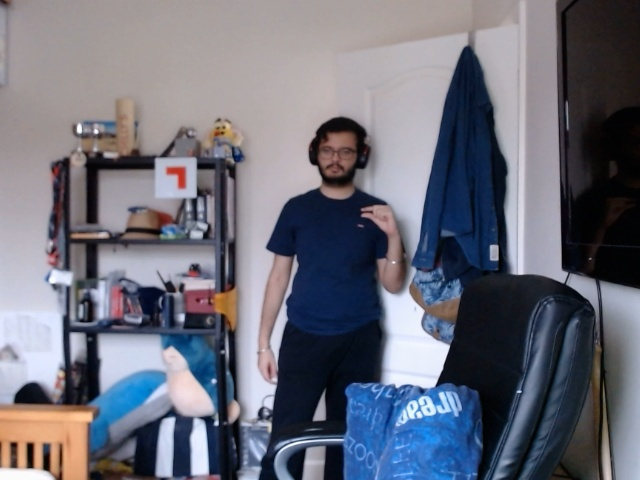Small: (355, 197, 403, 239)
